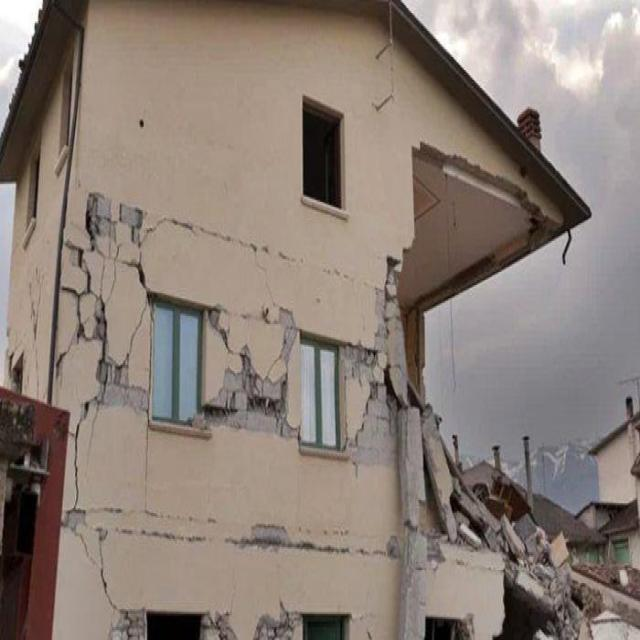damage: (98, 485, 405, 584), (369, 225, 452, 533), (152, 200, 356, 298), (474, 497, 592, 628), (208, 294, 308, 442), (76, 337, 167, 438), (348, 274, 384, 474), (60, 233, 116, 359), (13, 246, 55, 407), (83, 171, 151, 268), (197, 594, 306, 640), (51, 495, 98, 554), (97, 591, 144, 640)
